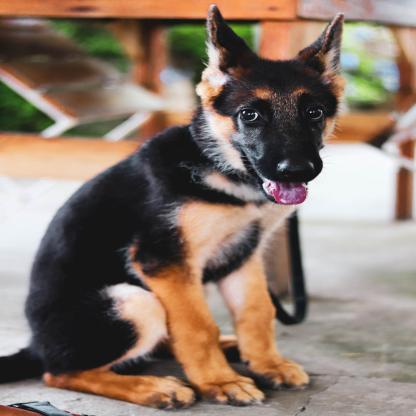dog: (1, 10, 347, 408)
